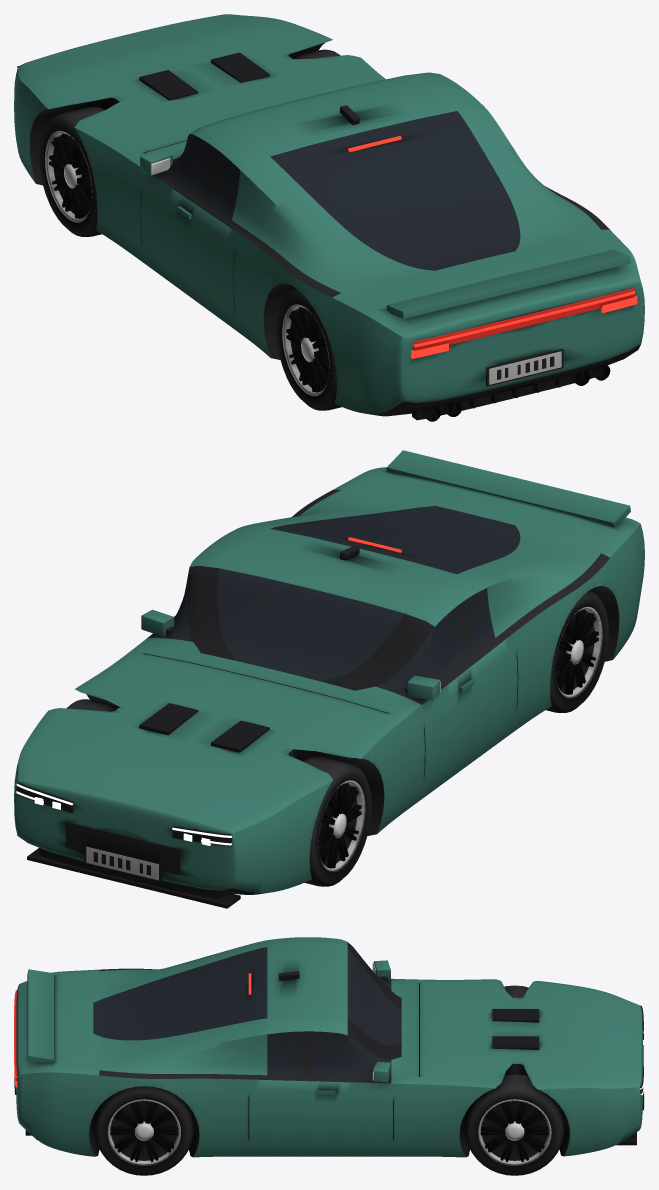
Rendered from halcyon.glb.
The picture shows the model from 3 angles, top to bottom: view 1: azimuth 30°, elevation 25°; view 2: azimuth 150°, elevation 25°; view 3: azimuth 270°, elevation 25°; orthographic projection. The views are drawn at different scales.
Visible parts, largest first — view 1: Body, Details, Wheel_FL, Wheel_RL, Rounded; view 2: Body, Details, Wheel_FL, Wheel_RL, Rounded; view 3: Body, Wheel_FR, Wheel_RR, Details, Rounded.
Boxes of the visible parts, x1,y1,x2,y2 form: Body: [14, 14, 644, 416]; Details: [16, 52, 637, 420]; Wheel_FL: [39, 106, 104, 236]; Wheel_RL: [276, 288, 341, 410]; Rounded: [140, 105, 359, 175]; Body: [14, 467, 644, 894]; Details: [16, 450, 630, 908]; Wheel_FL: [303, 756, 371, 886]; Wheel_RL: [546, 590, 608, 712]; Rounded: [141, 546, 440, 700]; Body: [16, 937, 642, 1157]; Wheel_FR: [465, 1074, 564, 1175]; Wheel_RR: [94, 1086, 193, 1175]; Details: [14, 969, 644, 1145]; Rounded: [278, 960, 390, 1082].
Bounding box in the file's own units: 2.02 × 1.3 × 4.84.
